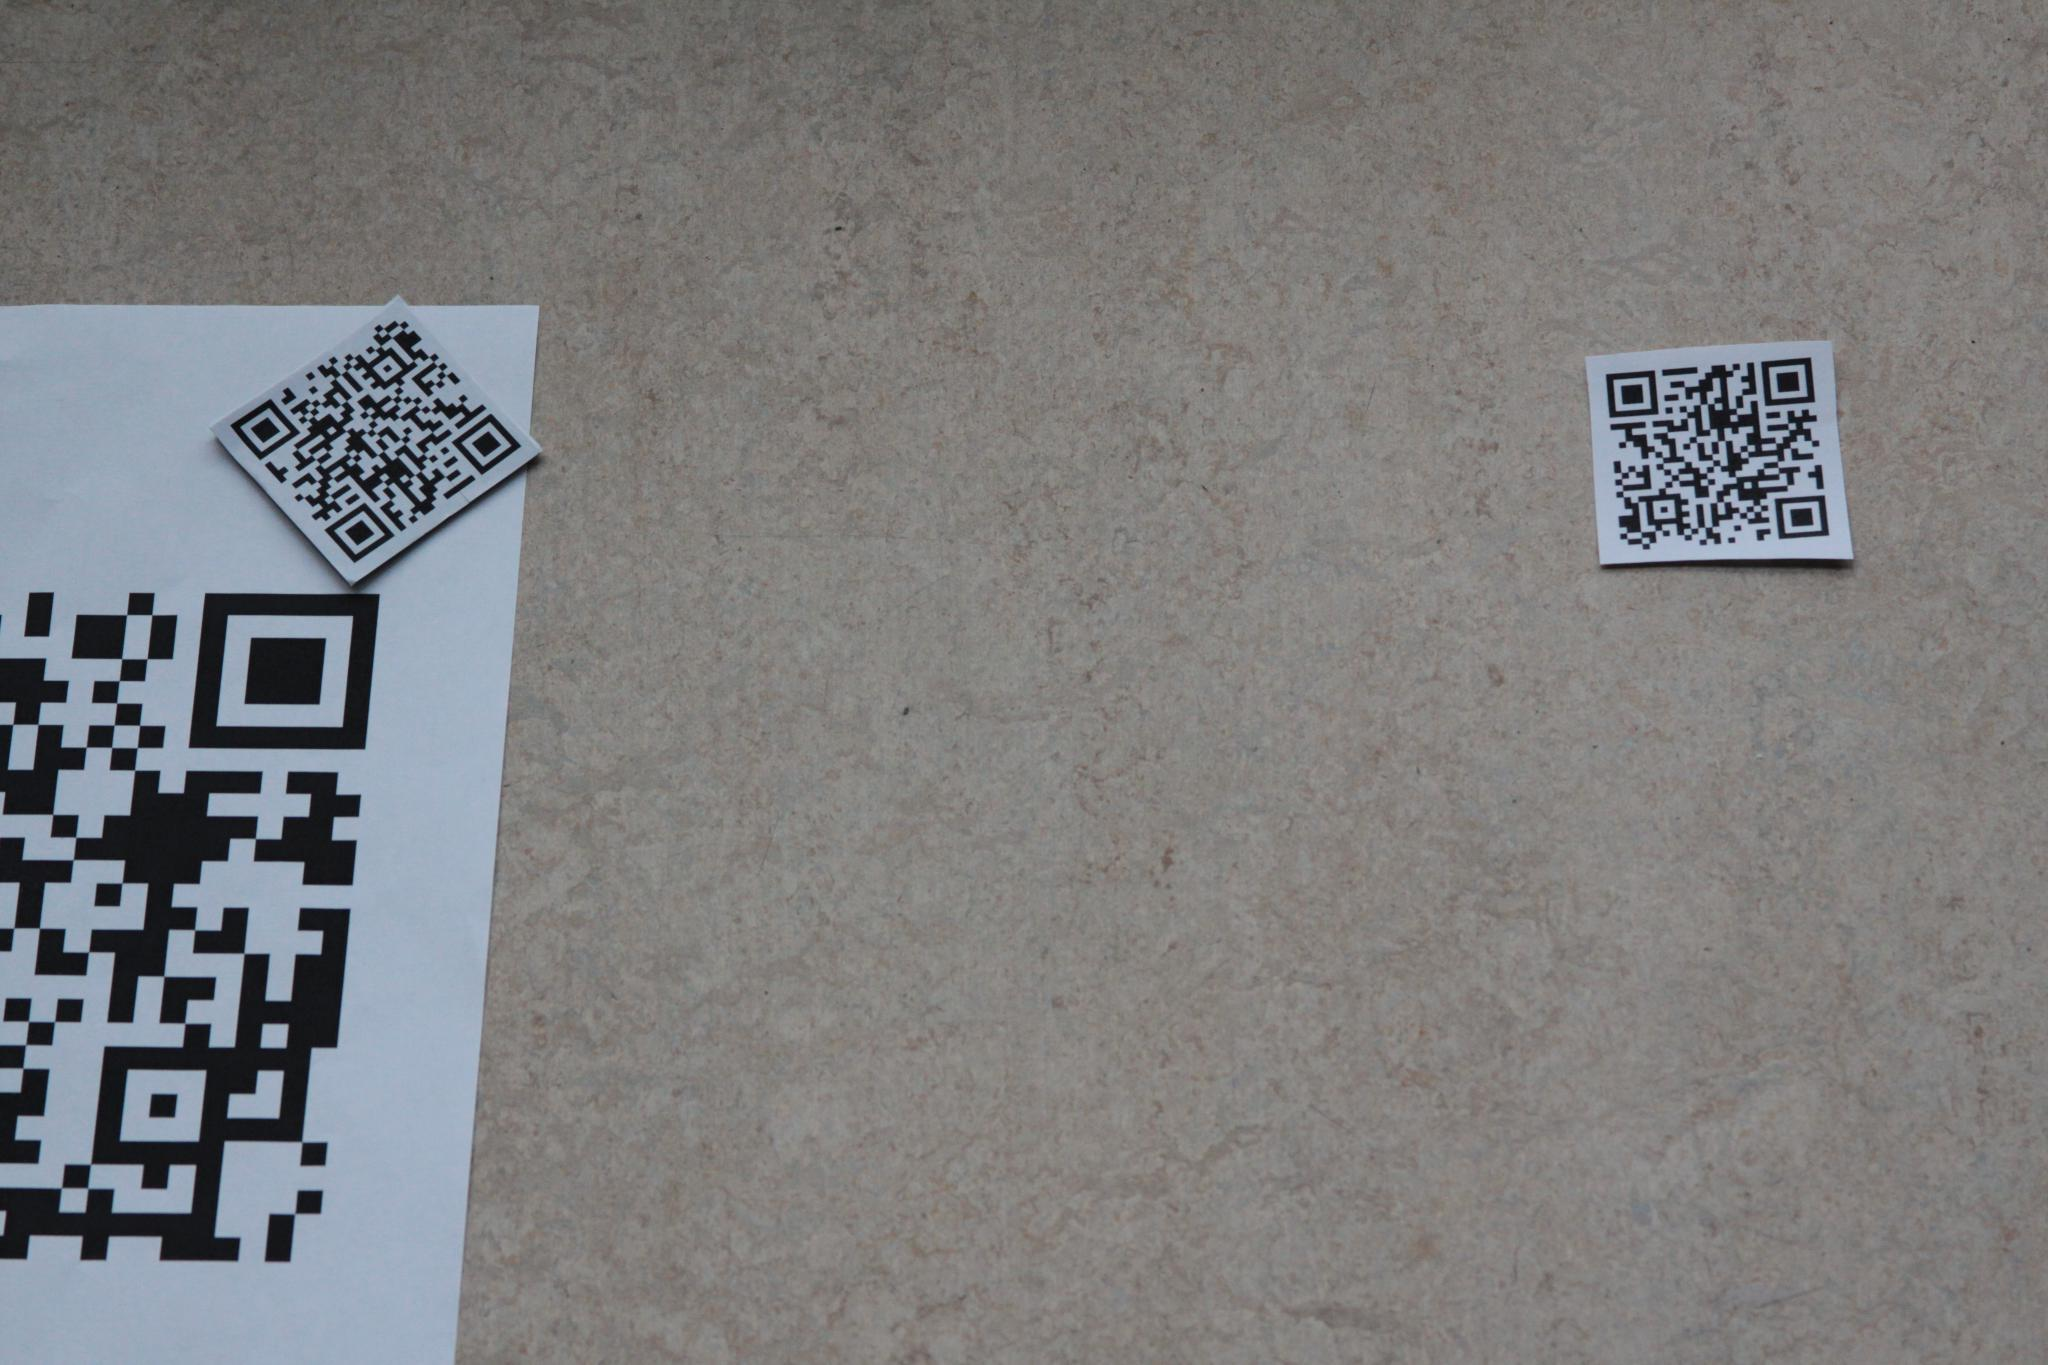Finder pattern: (195, 580, 390, 763), (324, 500, 391, 568), (231, 396, 301, 462), (454, 416, 522, 480), (1759, 349, 1823, 411), (1769, 484, 1833, 545), (1597, 366, 1667, 417)
